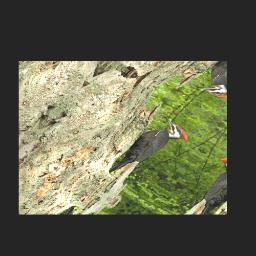Woodpecker: (93, 108, 196, 189)
